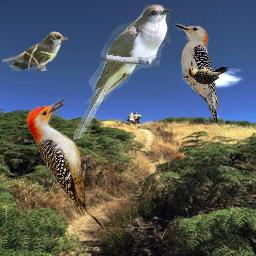Cuckoo: (72, 4, 172, 140), (2, 31, 68, 71)
Woodpecker: (26, 99, 106, 232), (173, 19, 224, 130), (185, 59, 231, 85)
